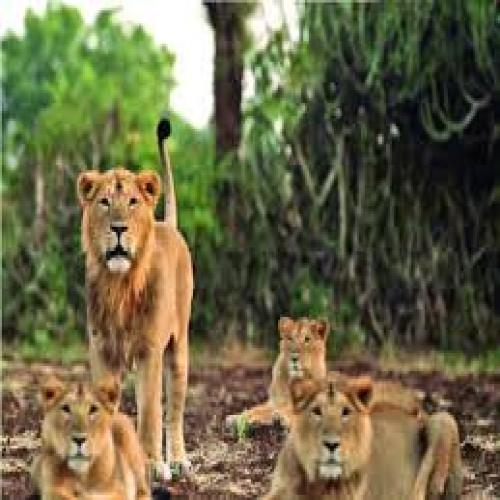lion-endangered: (75, 119, 195, 461), (266, 371, 464, 500), (226, 309, 446, 420), (33, 375, 151, 500)
